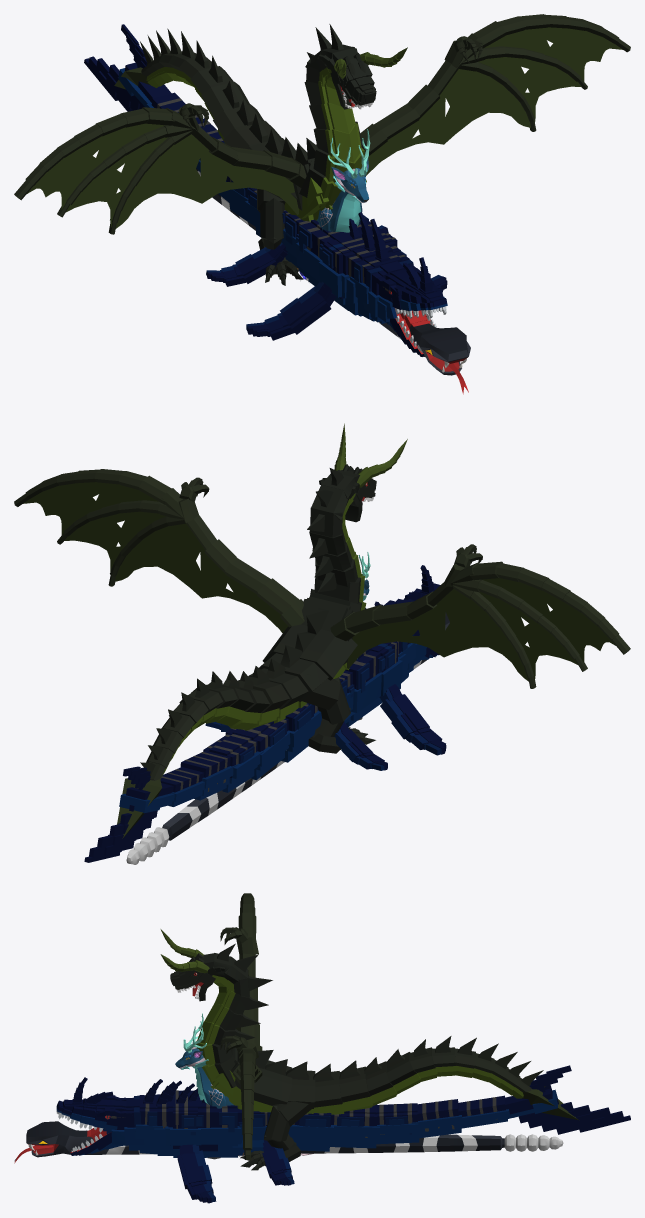
The model's file is Monster.fbx.
The picture shows the model from 3 angles, top to bottom: view 1: azimuth 30°, elevation 25°; view 2: azimuth 150°, elevation 25°; view 3: azimuth 270°, elevation 25°; orthographic projection. The views are drawn at different scales.
Parts seen in each view (by area): view 1: Monster_13, Monster_12, Monster_14, Monster_2; view 2: Monster_13, Monster_12, Monster_2; view 3: Monster_13, Monster_12, Monster_2, Monster_14.
Boxes of the visible parts, x1,y1,x2,y2 form: Monster_13: (14,14,630,285); Monster_12: (84,24,447,356); Monster_14: (317,129,370,232); Monster_2: (196,168,470,394); Monster_13: (14,423,630,838); Monster_12: (84,565,446,862); Monster_2: (126,612,449,864); Monster_13: (160,893,578,1170); Monster_12: (56,1065,630,1203); Monster_2: (14,1121,563,1163); Monster_14: (175,1013,313,1159).
Size of the model in its own units: 991 by 432 by 1063.
